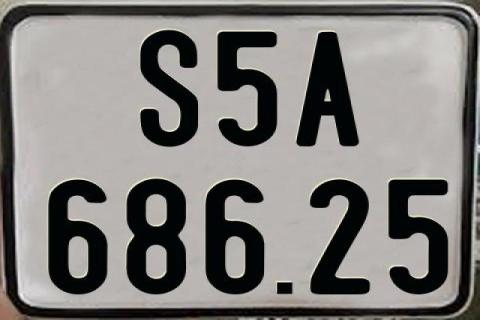0: (389, 179, 454, 295), (308, 179, 372, 295), (46, 177, 108, 295), (204, 178, 265, 296), (218, 30, 278, 148), (125, 177, 184, 296)
A: (294, 31, 362, 151)
S: (138, 28, 200, 146)
